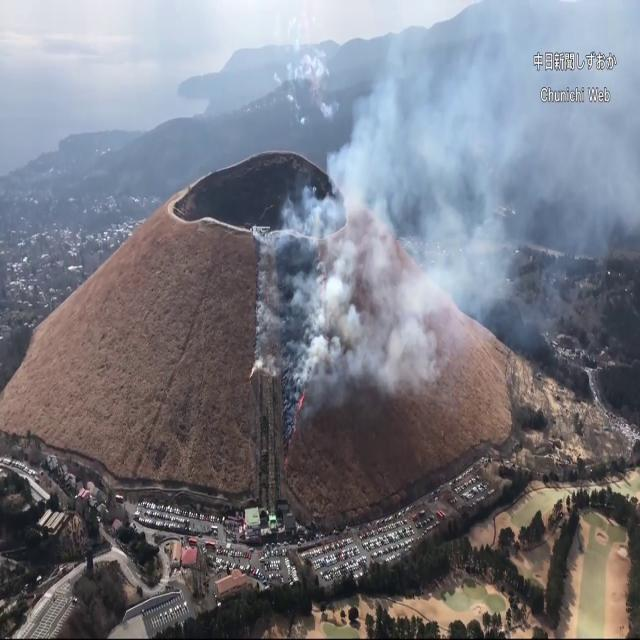Smoke: (252, 0, 640, 399)
